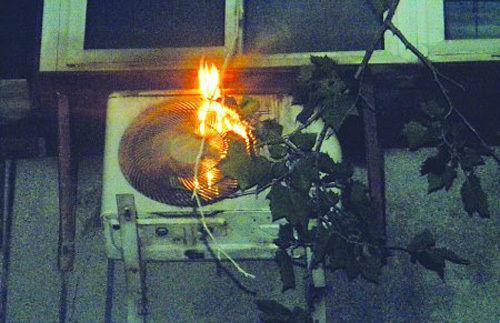fire: (162, 51, 257, 192)
